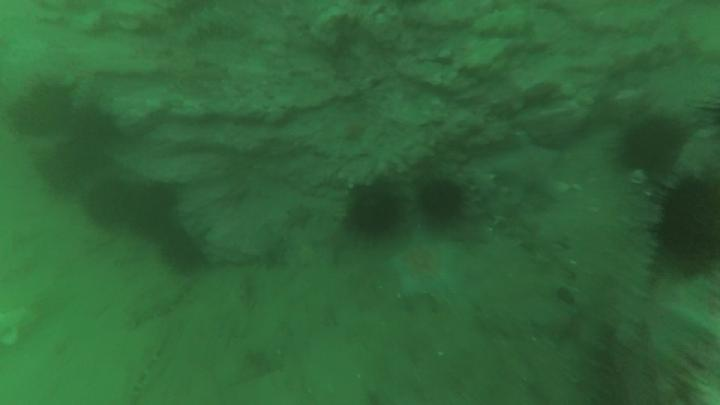echinus: (638, 162, 720, 289), (607, 112, 691, 184), (343, 177, 413, 249), (409, 167, 476, 239), (72, 170, 141, 232)
starfish: (385, 229, 468, 301)
